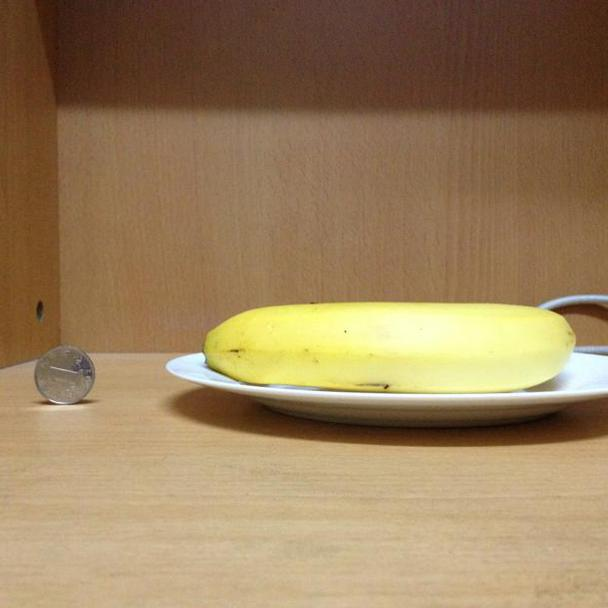banana: (202, 299, 576, 390)
